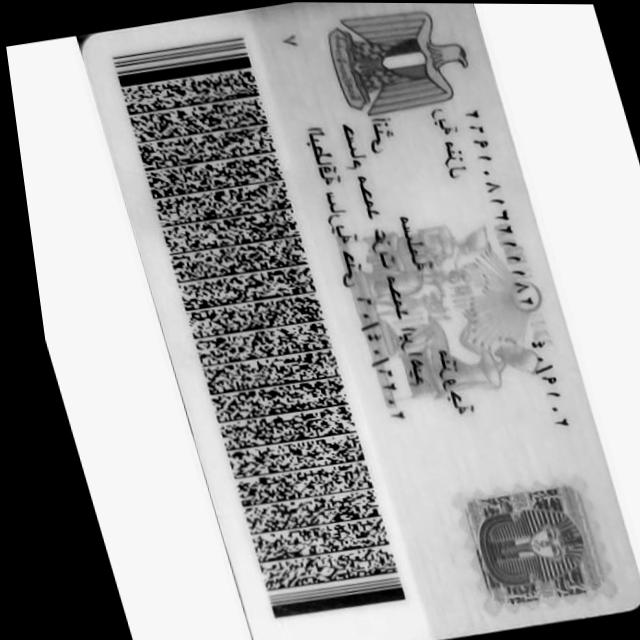back: (86, 2, 640, 640)
